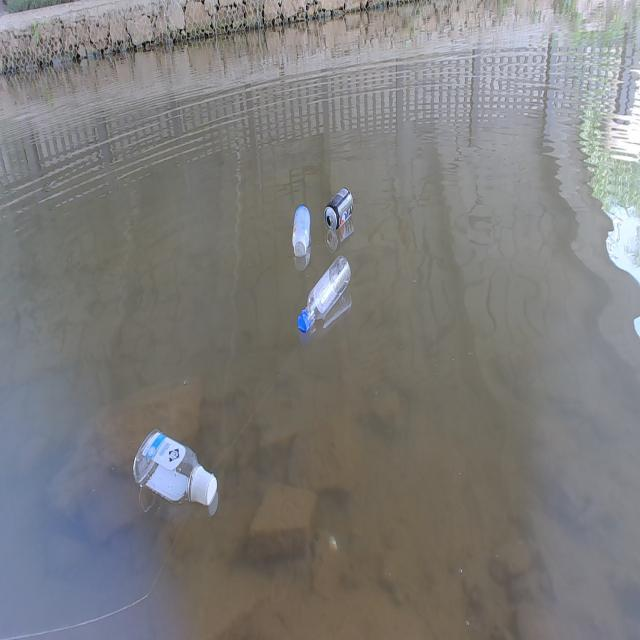garbage: (132, 427, 218, 517), (297, 255, 351, 333), (323, 186, 353, 231), (291, 203, 311, 257)
